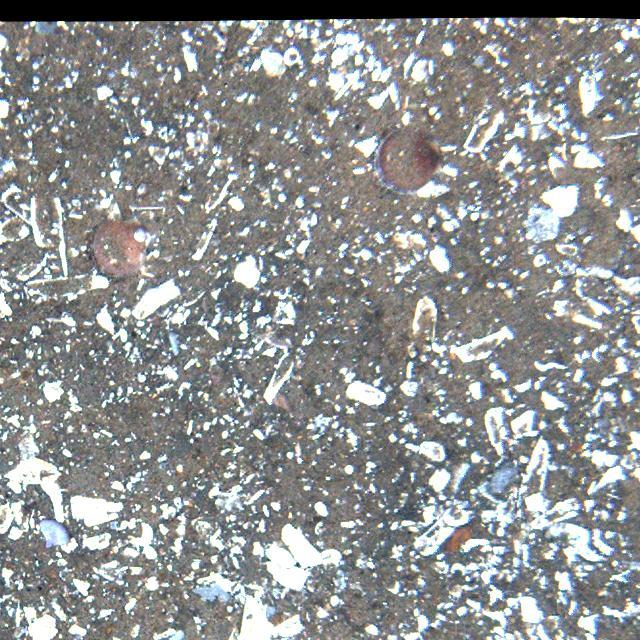scallop: (372, 128, 438, 189)
